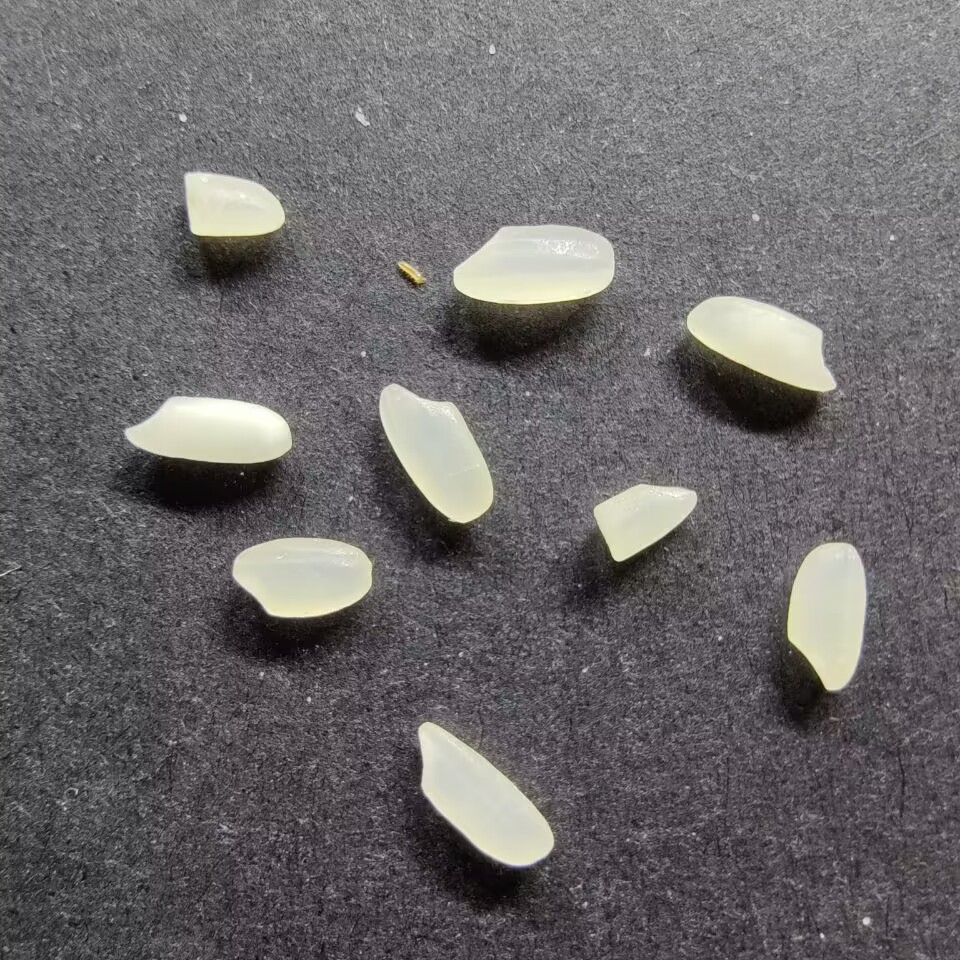broken: (591, 482, 697, 563), (180, 169, 286, 238)
others: (393, 255, 426, 288)
rice: (415, 720, 555, 869), (377, 381, 495, 525), (685, 295, 838, 394), (451, 222, 615, 304), (783, 541, 868, 693), (122, 395, 293, 464), (231, 537, 373, 619)
